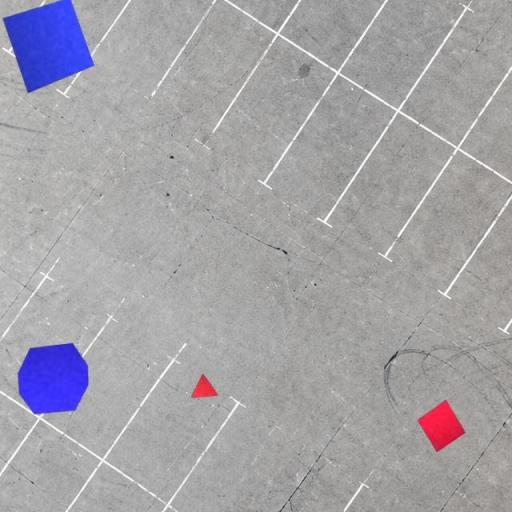BLUE_SQUARE: (2, 0, 94, 94)
RED_SQUARE: (417, 399, 466, 453)
